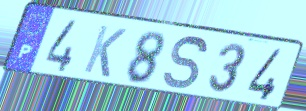3: (205, 42, 247, 95)
4: (245, 48, 286, 102), (43, 18, 78, 73)
8: (125, 30, 167, 86)
K: (81, 23, 129, 80)
S: (162, 34, 210, 92)
